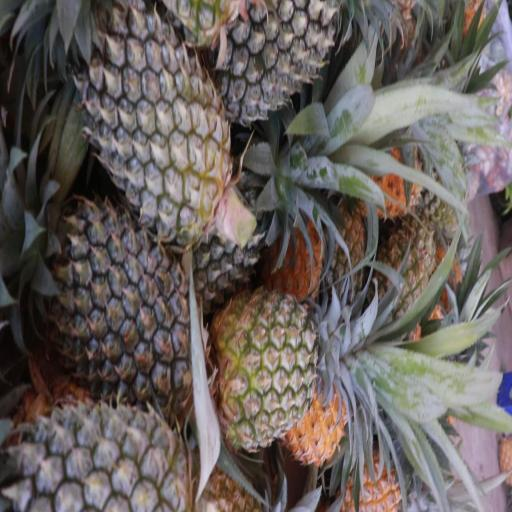------------------------------: (204, 286, 334, 448)
